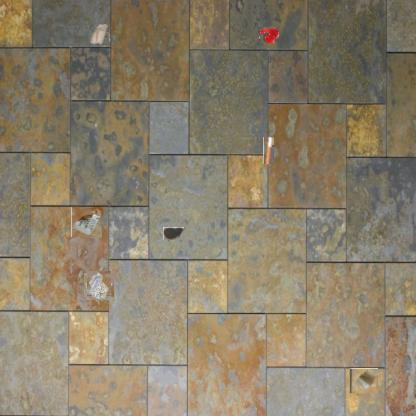dirty: (72, 207, 102, 238), (85, 272, 113, 298), (351, 368, 378, 394), (89, 24, 110, 44), (263, 136, 274, 164)
liquid: (259, 28, 279, 44), (163, 227, 184, 240)
